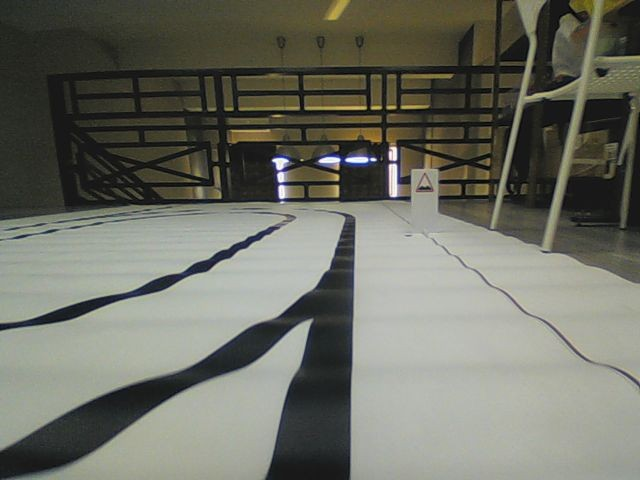Nerov: (415, 171, 434, 195)
